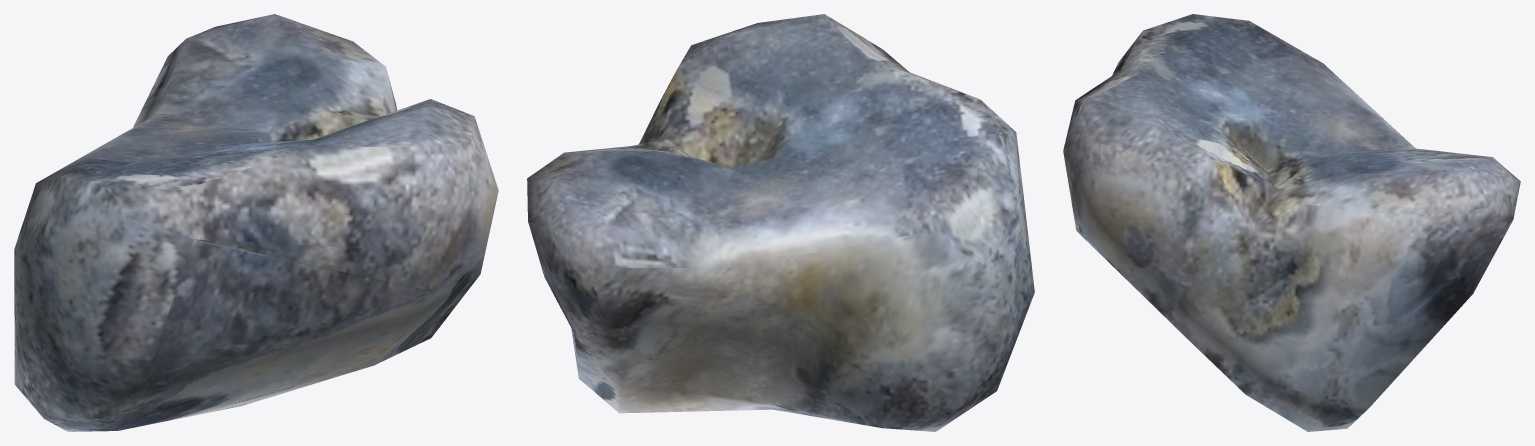
Rendered from rock086.glb.
3 views of the same model, side by side, from view 1: azimuth 30°, elevation 25°; view 2: azimuth 150°, elevation 25°; view 3: azimuth 270°, elevation 25° (orthographic). The views are drawn at different scales.
Parts seen in each view (by area): view 1: rock086; view 2: rock086; view 3: rock086.
Boxes of the visible parts, <box> form: rock086: <box>14,14,498,431</box>; rock086: <box>527,14,1034,431</box>; rock086: <box>1063,14,1520,431</box>.
Bounding box in the file's own units: 0.9555 × 0.7007 × 0.9769.
1 material, 1 textured.
